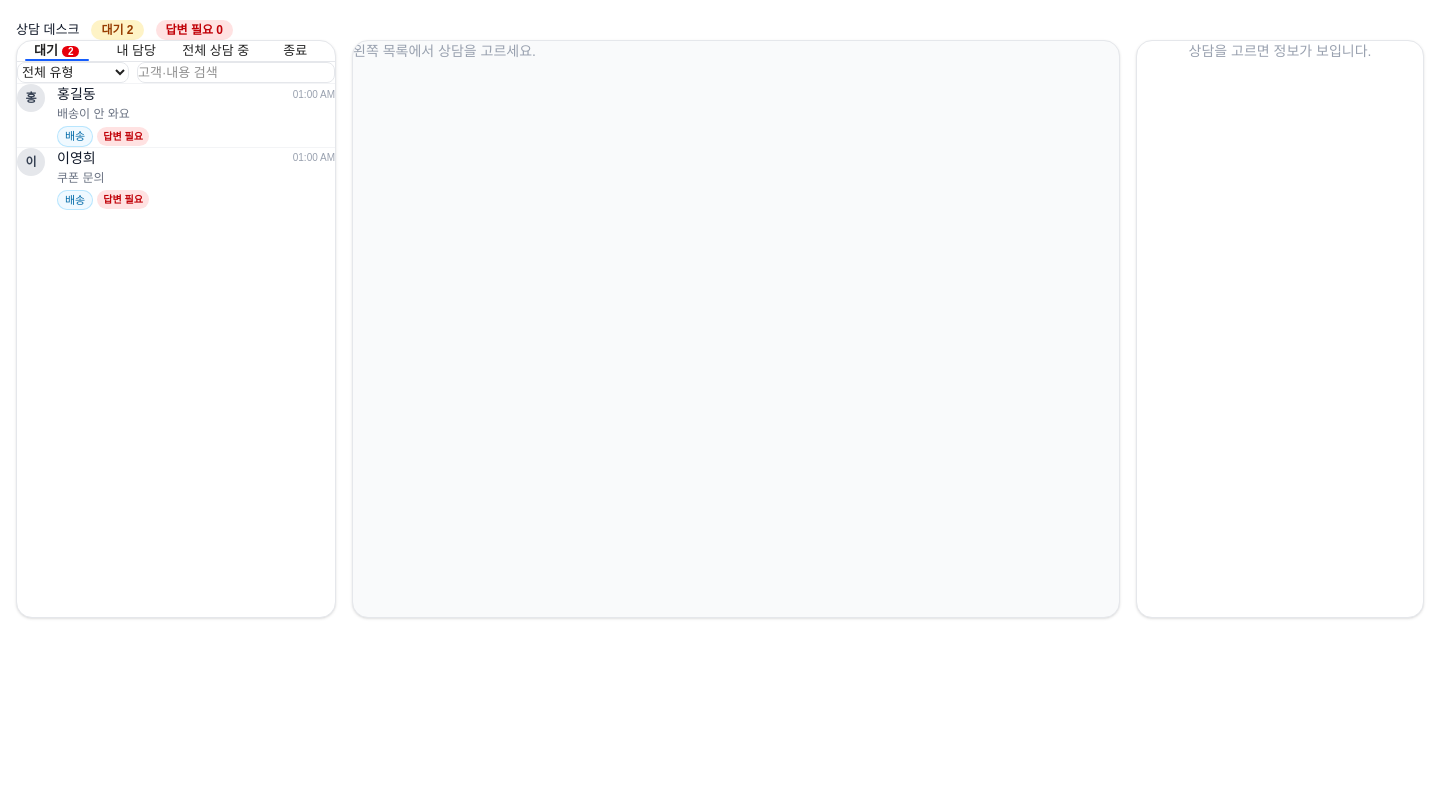
Test: Desk — 상담 데스크 › 검색은 고객 이름 · 마지막 메시지로 목록을 좁힌다
Type "쿠폰" into the search field labelled "고객·내용 검색".
click(236, 72); type("쿠폰")  # box x1=137 y1=62 x2=335 y2=83
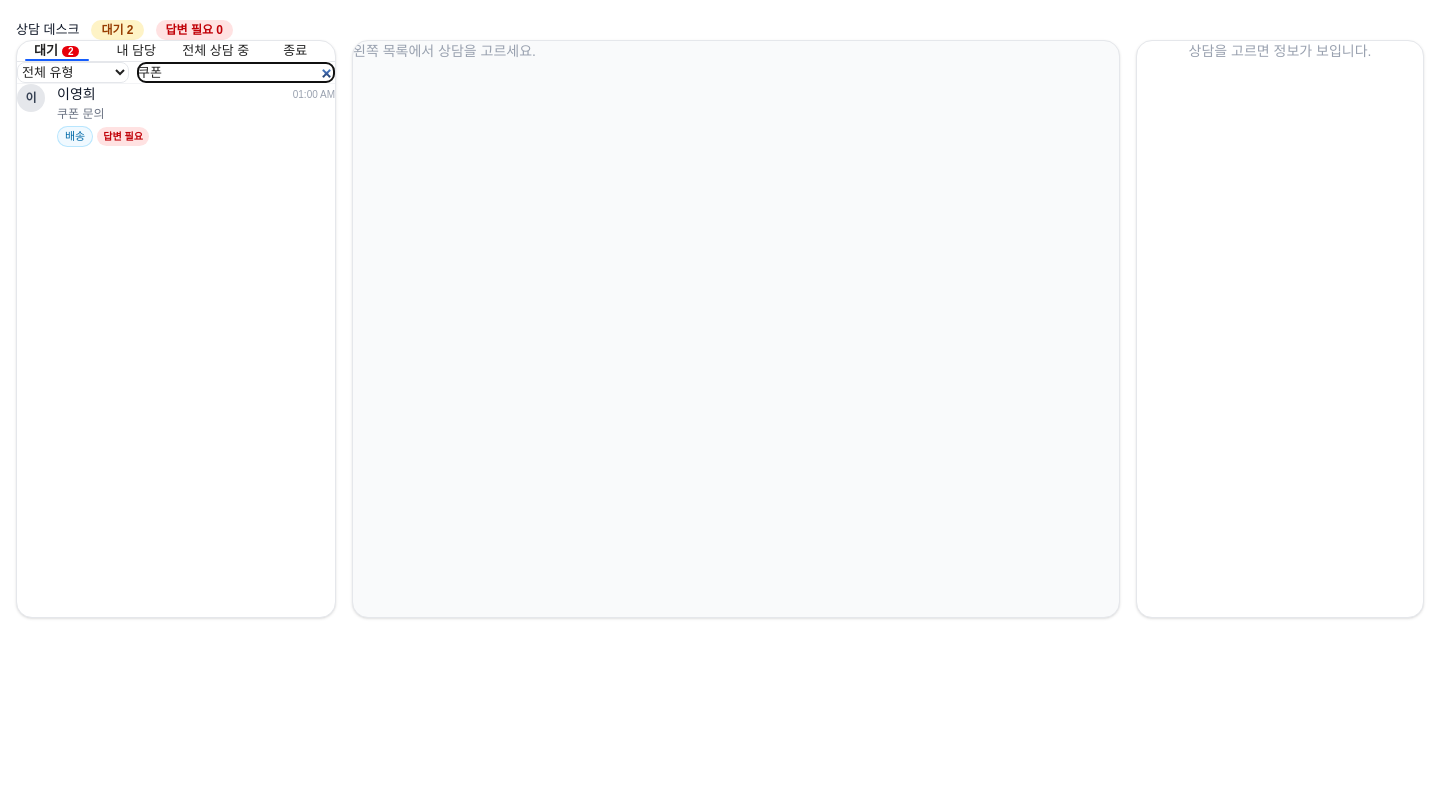
Check: the text "이영희" is shown, box x1=57 y1=84 x2=96 y2=104
Check: the button "홍길동" is gone
